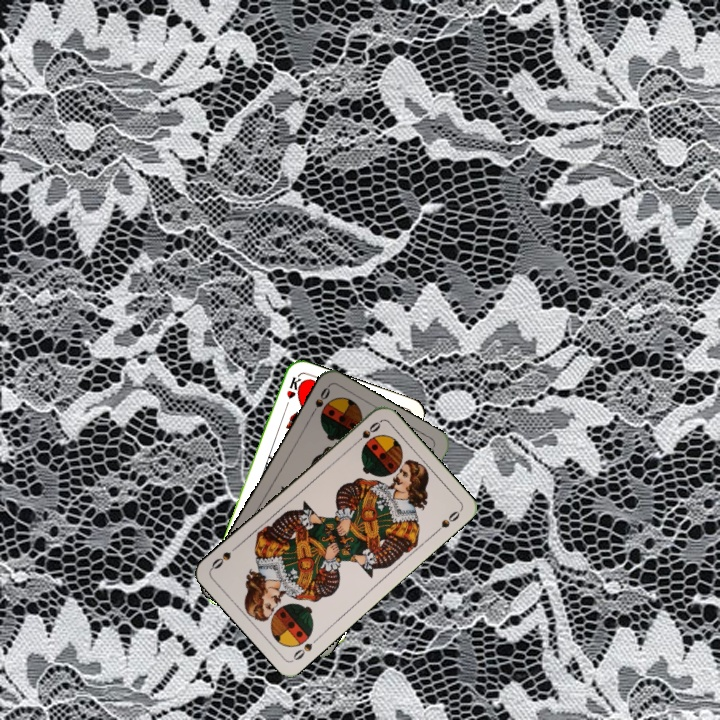HK: (281, 373, 304, 412)
SO: (350, 417, 383, 448), (289, 633, 323, 663), (306, 383, 333, 420)
